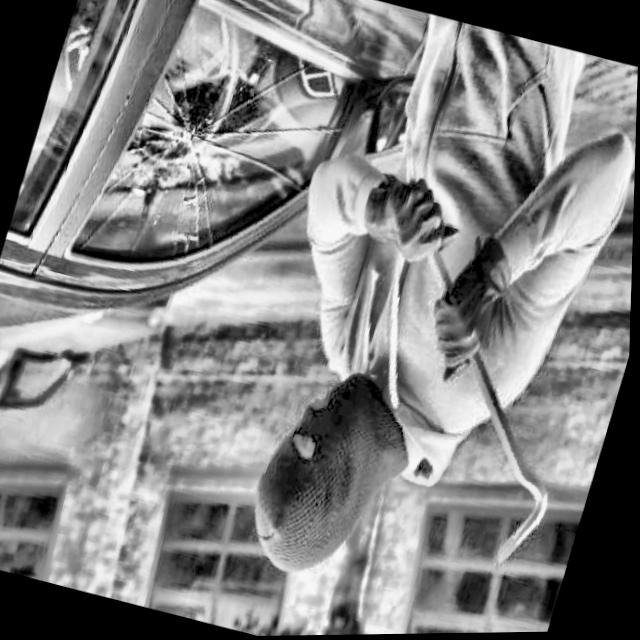robbery: (0, 0, 636, 606)
